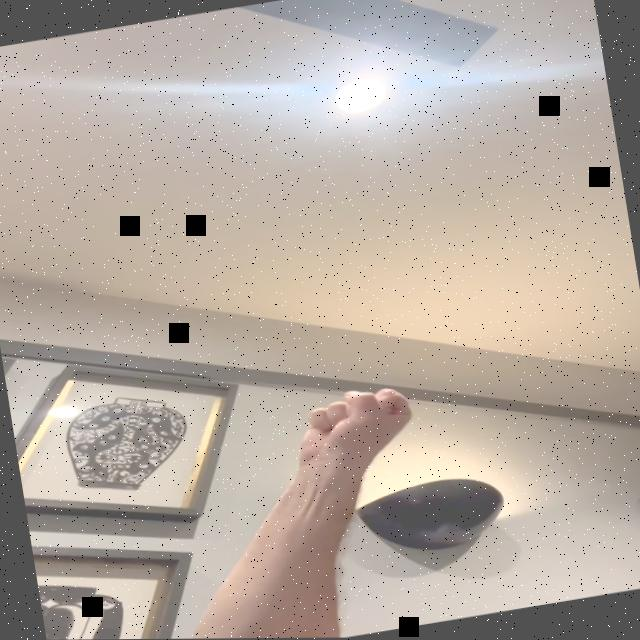Rock: (286, 379, 420, 468)
